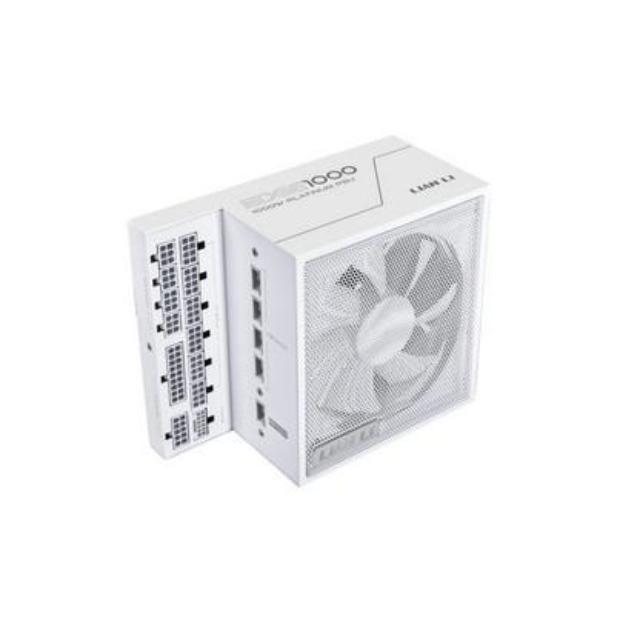PSU: (116, 128, 499, 496)
